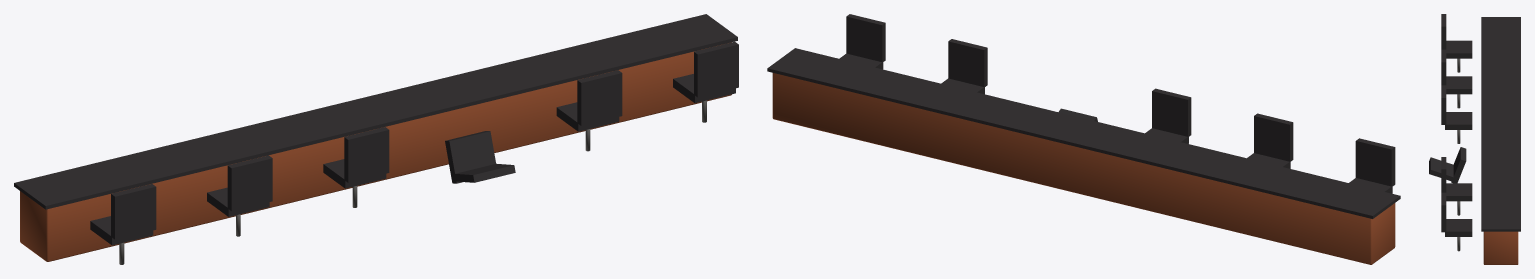
Rendered from casino_seats.glb.
The picture shows the model from 3 angles, left to right: view 1: azimuth 30°, elevation 25°; view 2: azimuth 150°, elevation 25°; view 3: azimuth 270°, elevation 25°; orthographic projection. The views are drawn at different scales.
Parts seen in each view (by area): view 1: desk_top, desk, cback_0, cback_2, cback_4, cback_1, cback_5, cseat_3, cback_3, cseat_2, cseat_4, cseat_1 (+2 smaller); view 2: desk, desk_top, cback_0, cback_2, cback_5, cback_1, cback_4; view 3: desk_top, desk, cseat_0, cseat_1, cseat_4, cseat_2, cseat_5, cback_3, cseat_3, cback_5, cback_2, cback_1 (+2 smaller).
Part boxes in pixels (<box>): desk_top: <box>14,14,737,209</box>; desk: <box>20,42,731,261</box>; cback_0: <box>111,184,156,239</box>; cback_2: <box>344,127,389,182</box>; cback_4: <box>577,70,622,125</box>; cback_1: <box>227,155,272,211</box>; cback_5: <box>694,41,738,97</box>; cseat_3: <box>445,131,495,183</box>; cback_3: <box>451,163,515,182</box>; cseat_2: <box>323,159,386,188</box>; cseat_4: <box>556,102,619,131</box>; cseat_1: <box>207,187,269,216</box>; desk: <box>772,73,1395,264</box>; desk_top: <box>767,48,1400,218</box>; cback_0: <box>1355,138,1395,186</box>; cback_2: <box>1152,88,1191,136</box>; cback_5: <box>846,14,885,62</box>; cback_1: <box>1254,113,1293,161</box>; cback_4: <box>948,39,987,86</box>; desk_top: <box>1481,17,1520,231</box>; desk: <box>1483,231,1518,264</box>; cseat_0: <box>1446,40,1472,58</box>; cseat_1: <box>1446,76,1472,94</box>; cseat_4: <box>1446,183,1472,201</box>; cseat_2: <box>1445,112,1472,129</box>; cseat_5: <box>1445,219,1472,236</box>; cback_3: <box>1429,157,1457,182</box>; cseat_3: <box>1451,147,1466,183</box>; cback_5: <box>1441,192,1446,232</box>; cback_2: <box>1441,85,1446,124</box>; cback_1: <box>1441,49,1446,85</box>.
Bounding box in the file's own units: 10.1 × 1.15 × 1.85.
